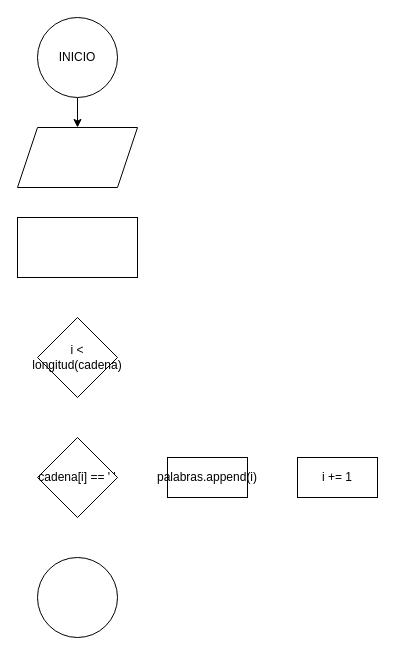
Some shapes in this 395 by 655 pixel diagram are drawn without their labels. The shapes that lost their labels are listed below. From the top down, each one's centre as x and y in pixels, then its label:
At (x=77, y=157): "INPUT cadena".
At (x=77, y=247): "indice = 0 palabras = []".
At (x=77, y=597): "FIN".
